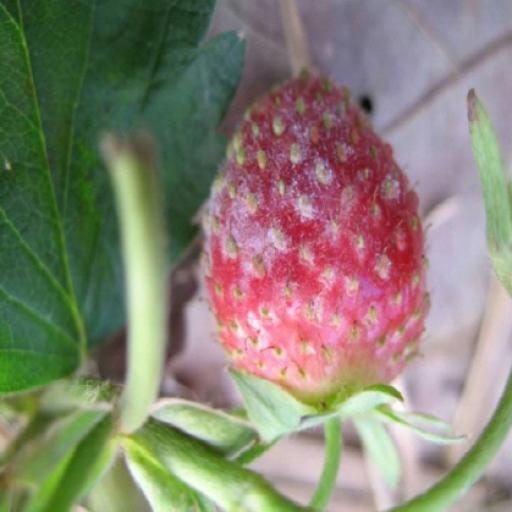Powdery Mildew Fruit: (201, 88, 432, 442)
